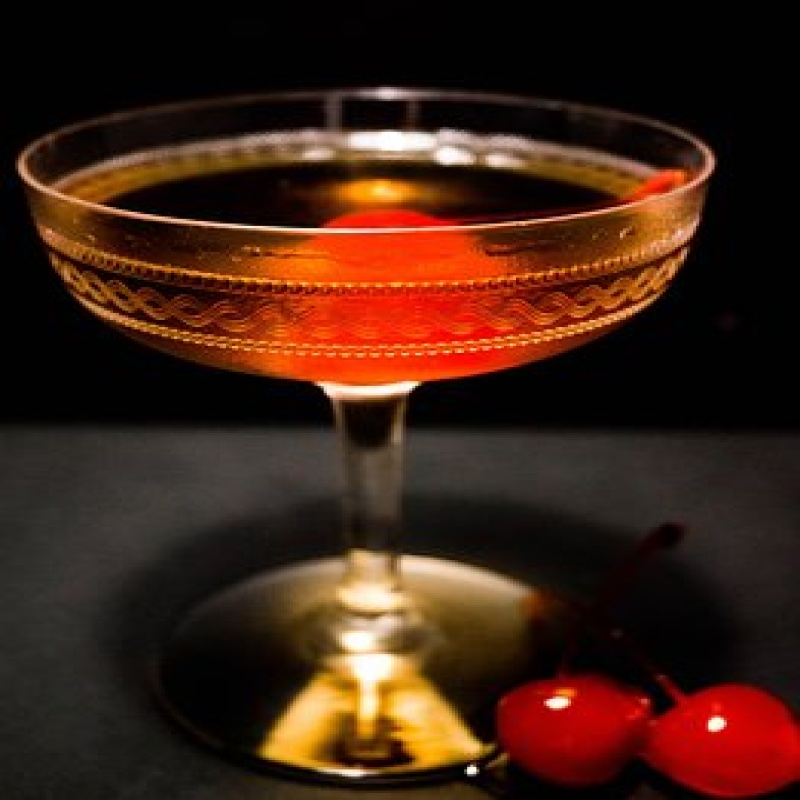whiskey: (27, 78, 731, 420)
